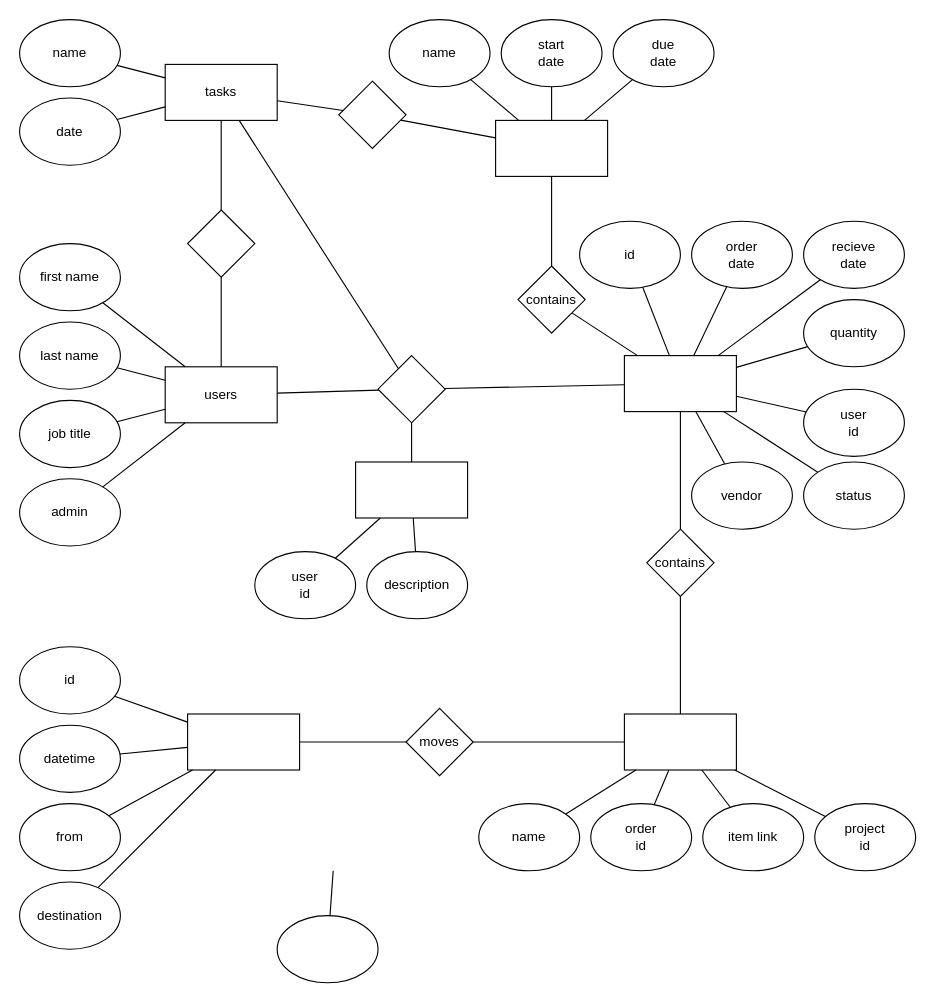
Some shapes in this 935 by 1002 pixel diagram are drawn without their labels. Each missing label, with the centre of its shape:
"assigned" goes at point 220,243.
"comment" goes at point 411,489.
"department" goes at point 327,948.
"has" goes at point 372,114.
"items" goes at point 679,741.
"logistics" goes at point 243,741.
"make" goes at point 411,388.
"orders" goes at point 679,383.
"projects" goes at point 551,147.
